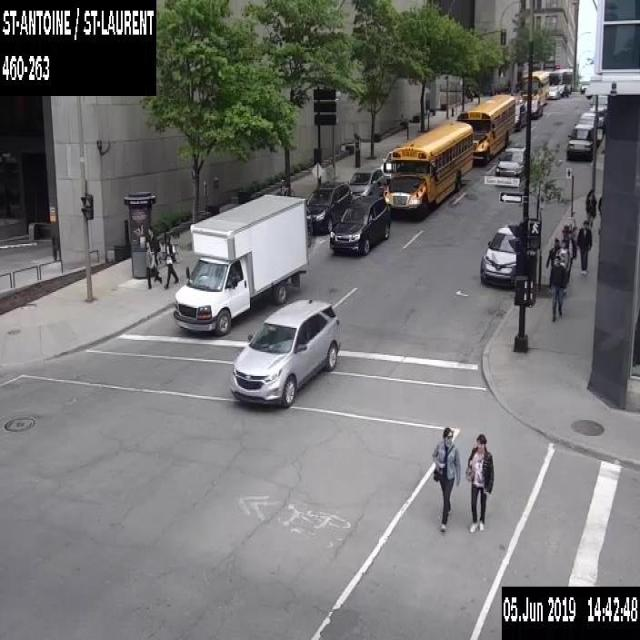bus: (382, 119, 472, 211), (456, 93, 514, 162), (521, 68, 548, 104), (548, 66, 573, 93)
pedestrian: (431, 427, 463, 532), (464, 433, 496, 532), (549, 254, 565, 322), (576, 219, 592, 275), (555, 238, 570, 296), (545, 237, 561, 290), (146, 240, 162, 289), (163, 236, 178, 288), (146, 225, 160, 275), (584, 187, 596, 227), (563, 230, 576, 266), (596, 194, 602, 234)
vehicle: (172, 192, 308, 334), (230, 297, 340, 405), (329, 193, 391, 254), (480, 223, 520, 286), (306, 181, 352, 233), (348, 168, 387, 200), (495, 145, 525, 186), (566, 124, 594, 160), (576, 112, 598, 134), (589, 93, 607, 117), (380, 150, 392, 182), (524, 98, 542, 118), (588, 105, 604, 127), (514, 104, 526, 129), (546, 84, 560, 98), (557, 83, 568, 96)
